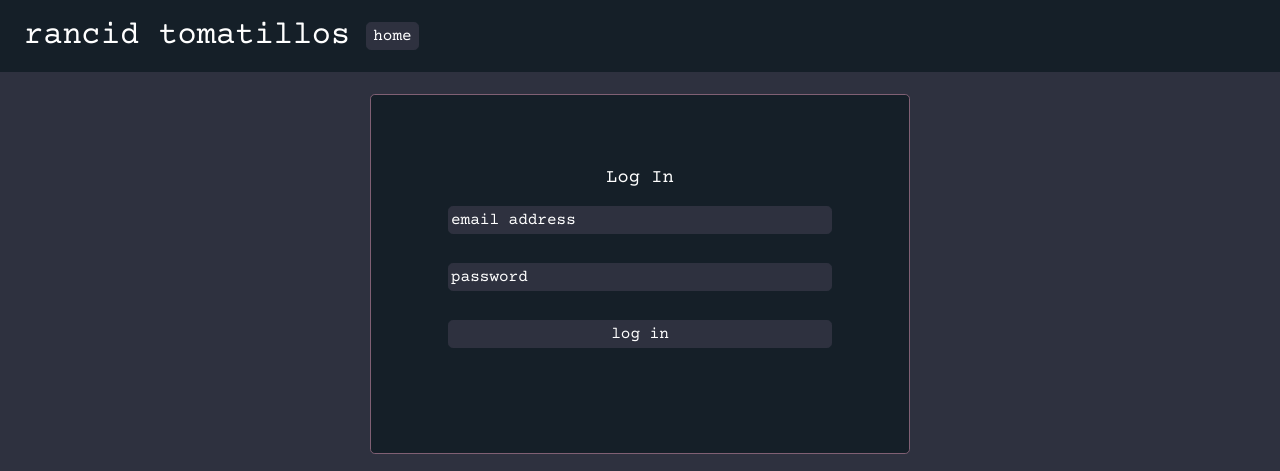
Test: Login Flow Test › should be able to login successfully
This screenshot has width=1280, height=471.
Type "charlie@turing.io" into the field named "email" at (640, 220), box [448,206,832,234]
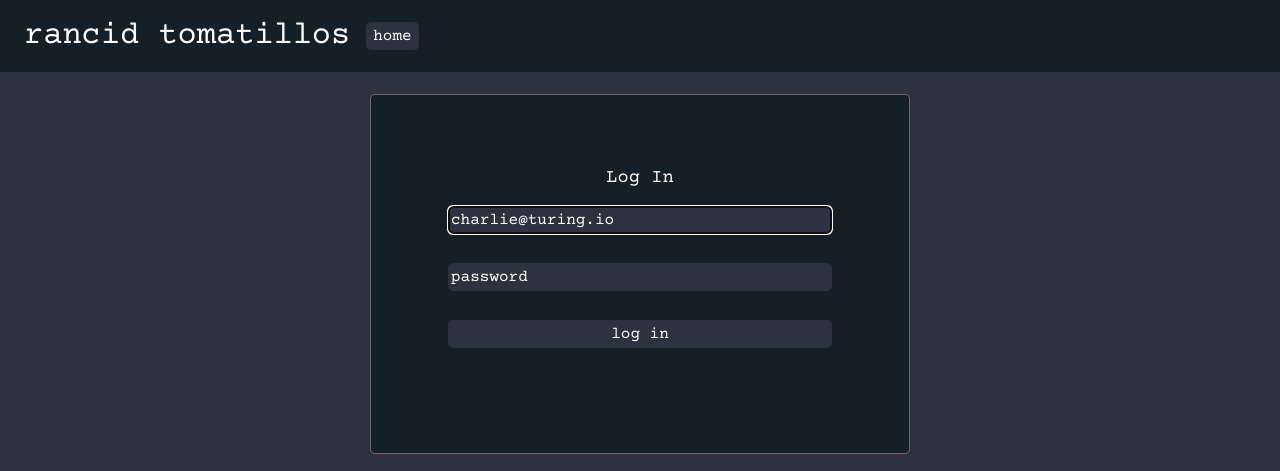
Type "qwerty" into the password field named "password" at (640, 277), box [448,263,832,291]
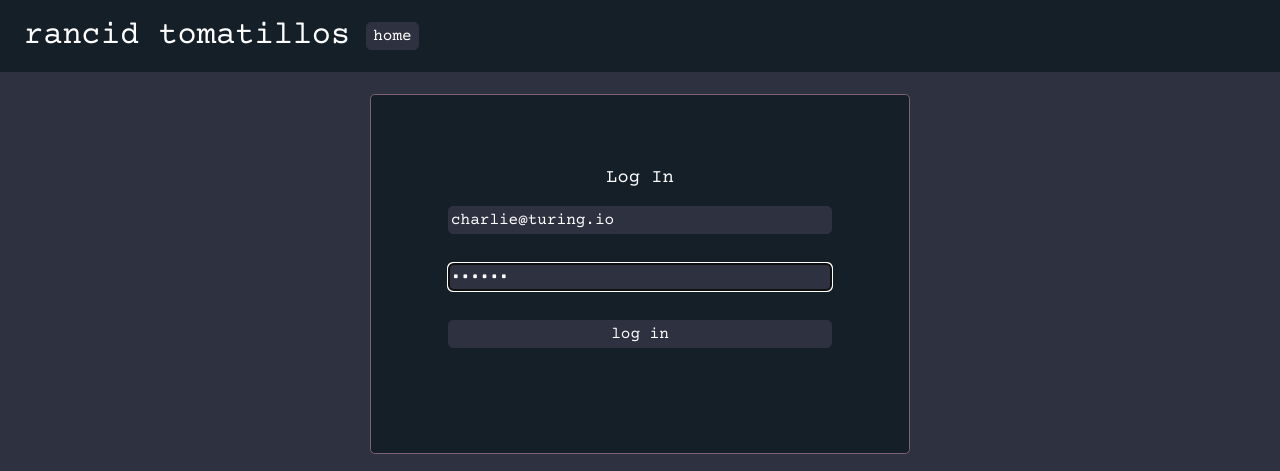
Click the button with class "login-button" at (640, 334), box [448,320,832,348]
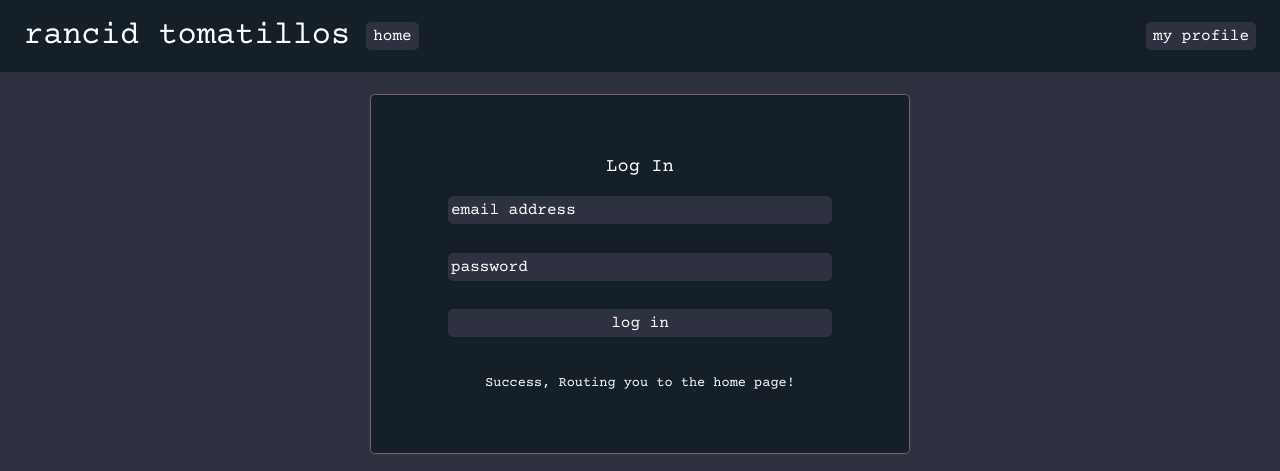
Result: the text "Success, Routing you to the home page!" is shown at [485,373,795,394]
